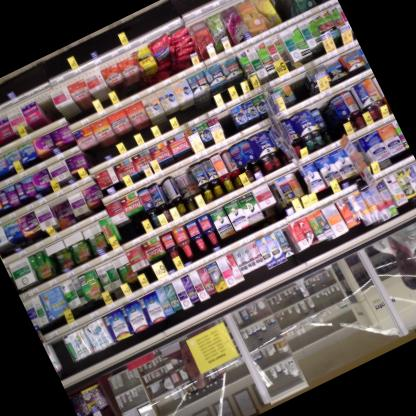empty_space: (35, 93, 65, 131), (48, 334, 76, 373), (316, 102, 342, 141), (288, 75, 312, 103), (215, 109, 237, 137), (269, 0, 296, 21)
